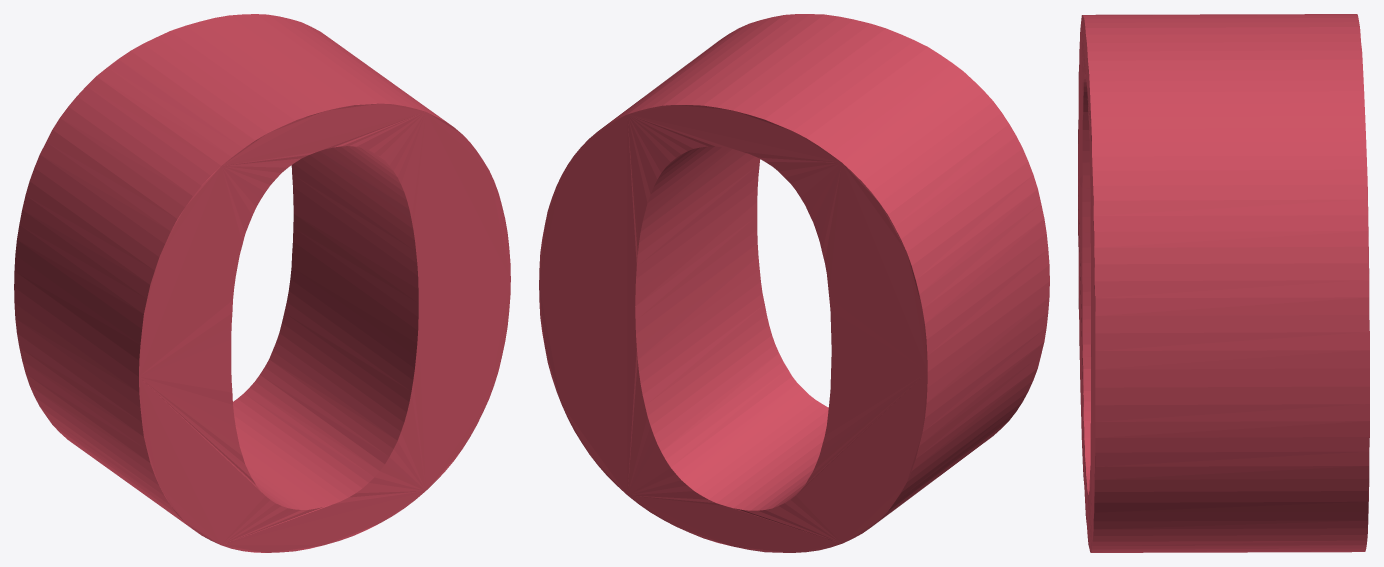
Rendered from OObject.glb.
3 renders of one model, left to right at view 1: azimuth 30°, elevation 25°; view 2: azimuth 150°, elevation 25°; view 3: azimuth 270°, elevation 25°, orthographic. The views are drawn at different scales.
Parts seen in each view (by area): view 1: Mesh_Mesh_head_geo.001_lambert2SG.001; view 2: Mesh_Mesh_head_geo.001_lambert2SG.001; view 3: Mesh_Mesh_head_geo.001_lambert2SG.001.
Boxes of the visible parts, x1,y1,x2,y2 form: Mesh_Mesh_head_geo.001_lambert2SG.001: [14, 14, 510, 552]; Mesh_Mesh_head_geo.001_lambert2SG.001: [539, 14, 1049, 552]; Mesh_Mesh_head_geo.001_lambert2SG.001: [1078, 14, 1369, 552].
Size of the model in its own units: 0.947 by 1.03 by 0.563.
